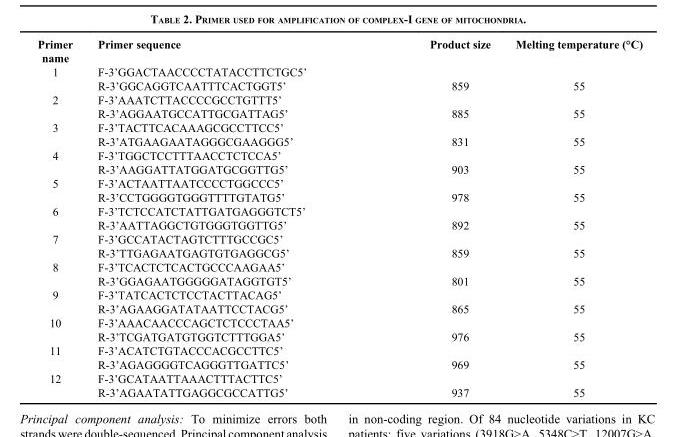table: (36, 37, 642, 398)
table column: (84, 37, 367, 398), (502, 37, 642, 398), (367, 37, 502, 398), (36, 37, 84, 398)
table column header: (36, 37, 642, 64)
table row: (36, 37, 642, 64), (36, 64, 642, 78), (36, 78, 642, 92), (36, 92, 642, 106), (36, 106, 642, 120), (36, 120, 642, 134), (36, 134, 642, 148), (36, 161, 642, 175), (36, 175, 642, 189), (36, 189, 642, 203), (36, 203, 642, 217), (36, 217, 642, 231), (36, 231, 642, 245), (36, 245, 642, 259), (36, 259, 642, 273), (36, 273, 642, 287), (36, 287, 642, 301), (36, 301, 642, 315), (36, 315, 642, 329), (36, 329, 642, 343), (36, 343, 642, 357), (36, 357, 642, 371), (36, 371, 642, 385), (36, 148, 642, 161), (36, 385, 642, 398)
table spanning cell: (36, 64, 84, 92), (36, 92, 84, 120), (36, 120, 84, 148), (36, 175, 84, 203), (36, 203, 84, 231), (36, 231, 84, 259), (36, 259, 84, 287), (36, 287, 84, 315), (36, 315, 84, 343), (36, 343, 84, 371), (36, 148, 84, 175), (36, 371, 84, 398)
